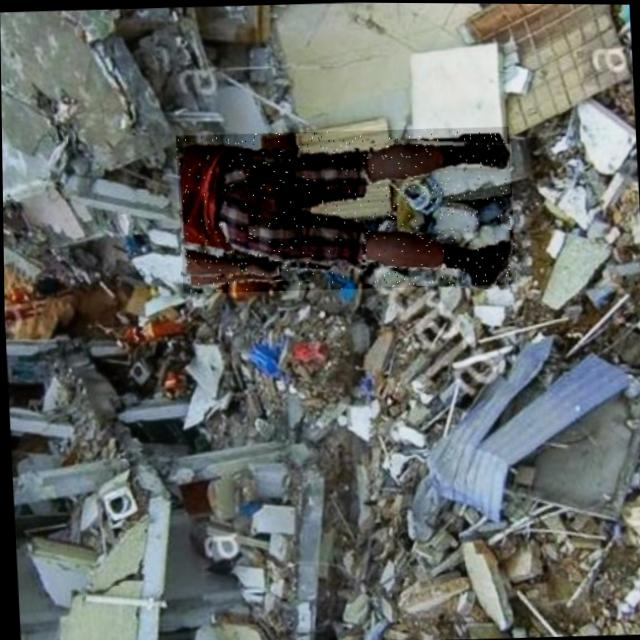Person in Rubble: (175, 122, 515, 294)
